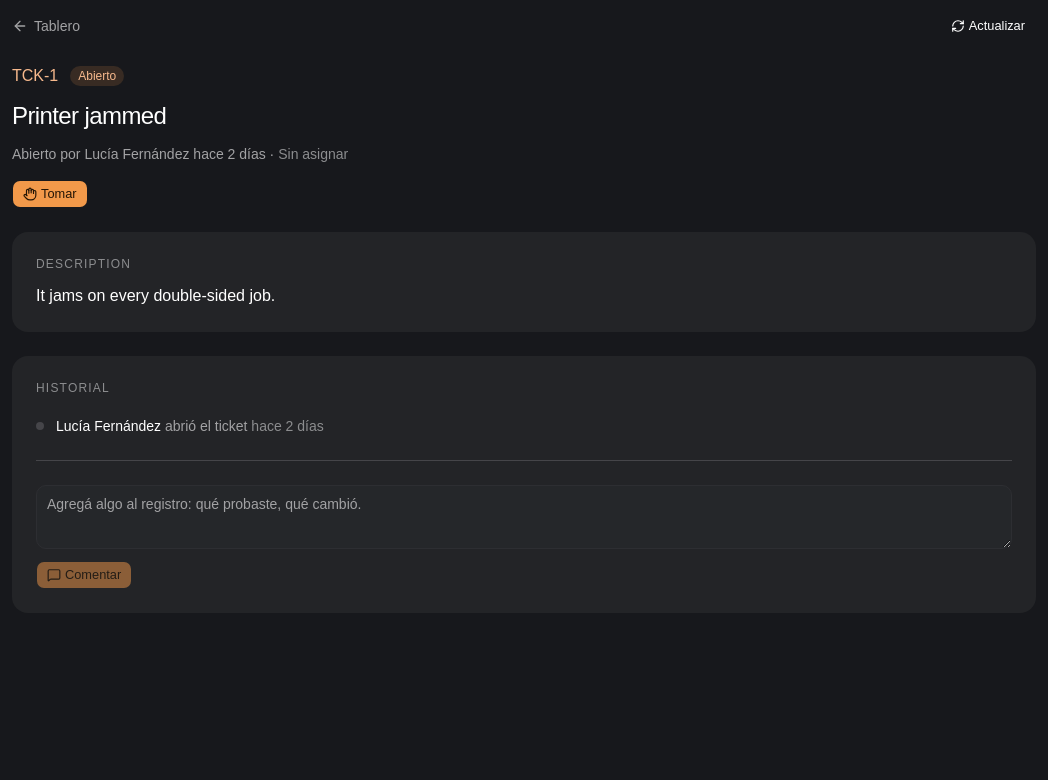
Test case: TicketDetailPage › says so when another agent got there first, and shows the real state
expect the heading "Printer jammed" is shown: met, box [12,102,166,129]
Click the button "Tomar" at (50, 194), box [12,180,88,208]
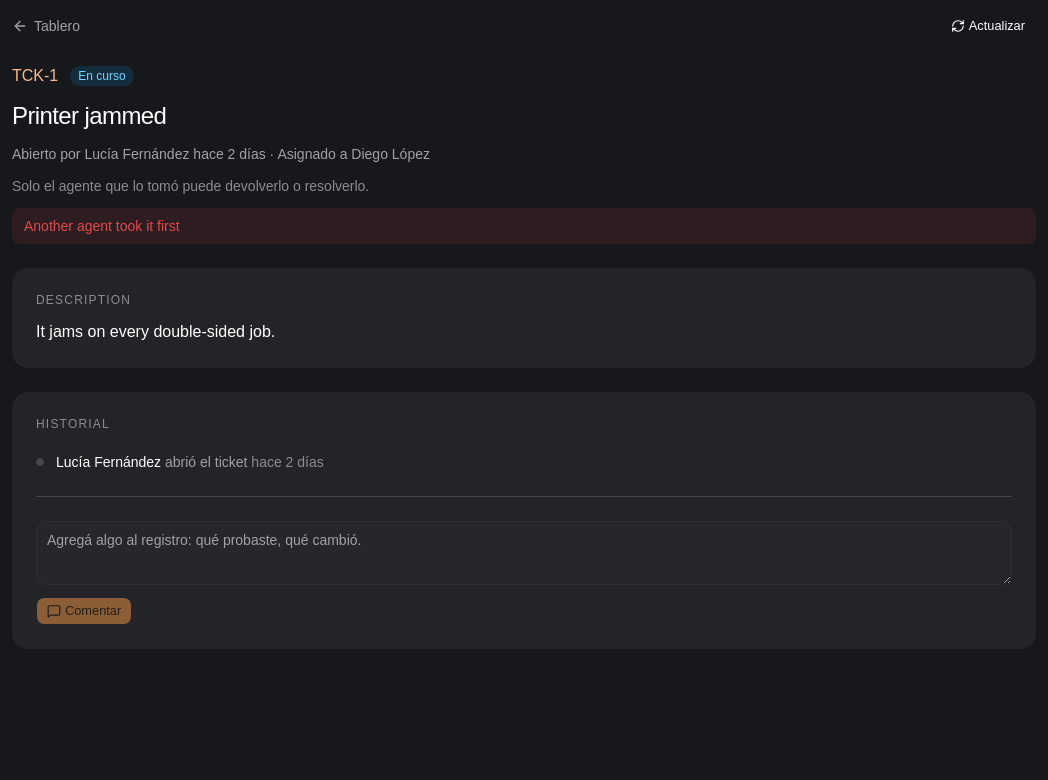
expect the text "Another agent took it first" is shown: met, box [12,208,1036,244]
expect the text "Asignado a Diego López" is shown: met, box [12,146,430,162]
expect the button "Tomar" is gone: met
